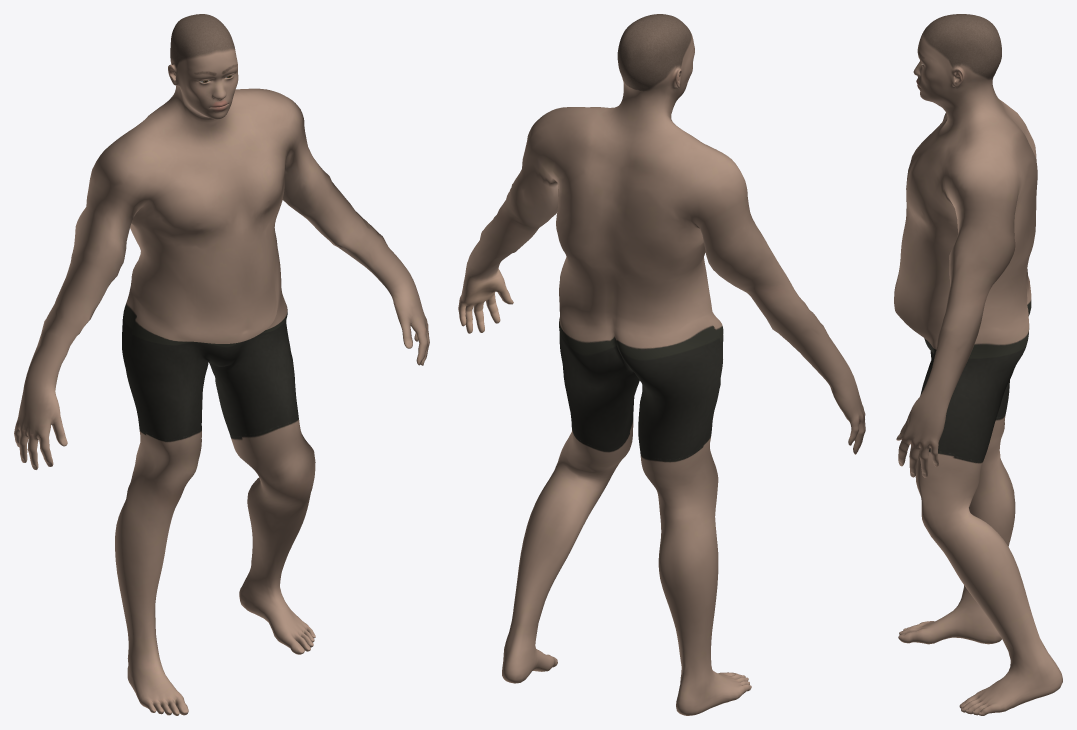
File: body.d736859b.glb
3 renders of one model, left to right at view 1: azimuth 30°, elevation 25°; view 2: azimuth 150°, elevation 25°; view 3: azimuth 270°, elevation 25°, orthographic. The views are drawn at different scales.
Visible parts, largest first — view 1: Body; view 2: Body; view 3: Body.
Boxes of the visible parts, x1,y1,x2,y2 form: Body: (14,14,429,715); Body: (458,14,865,715); Body: (894,14,1062,715).
Size of the model in its own units: 1.11 by 1.75 by 0.4136.
1 material, 1 textured.
